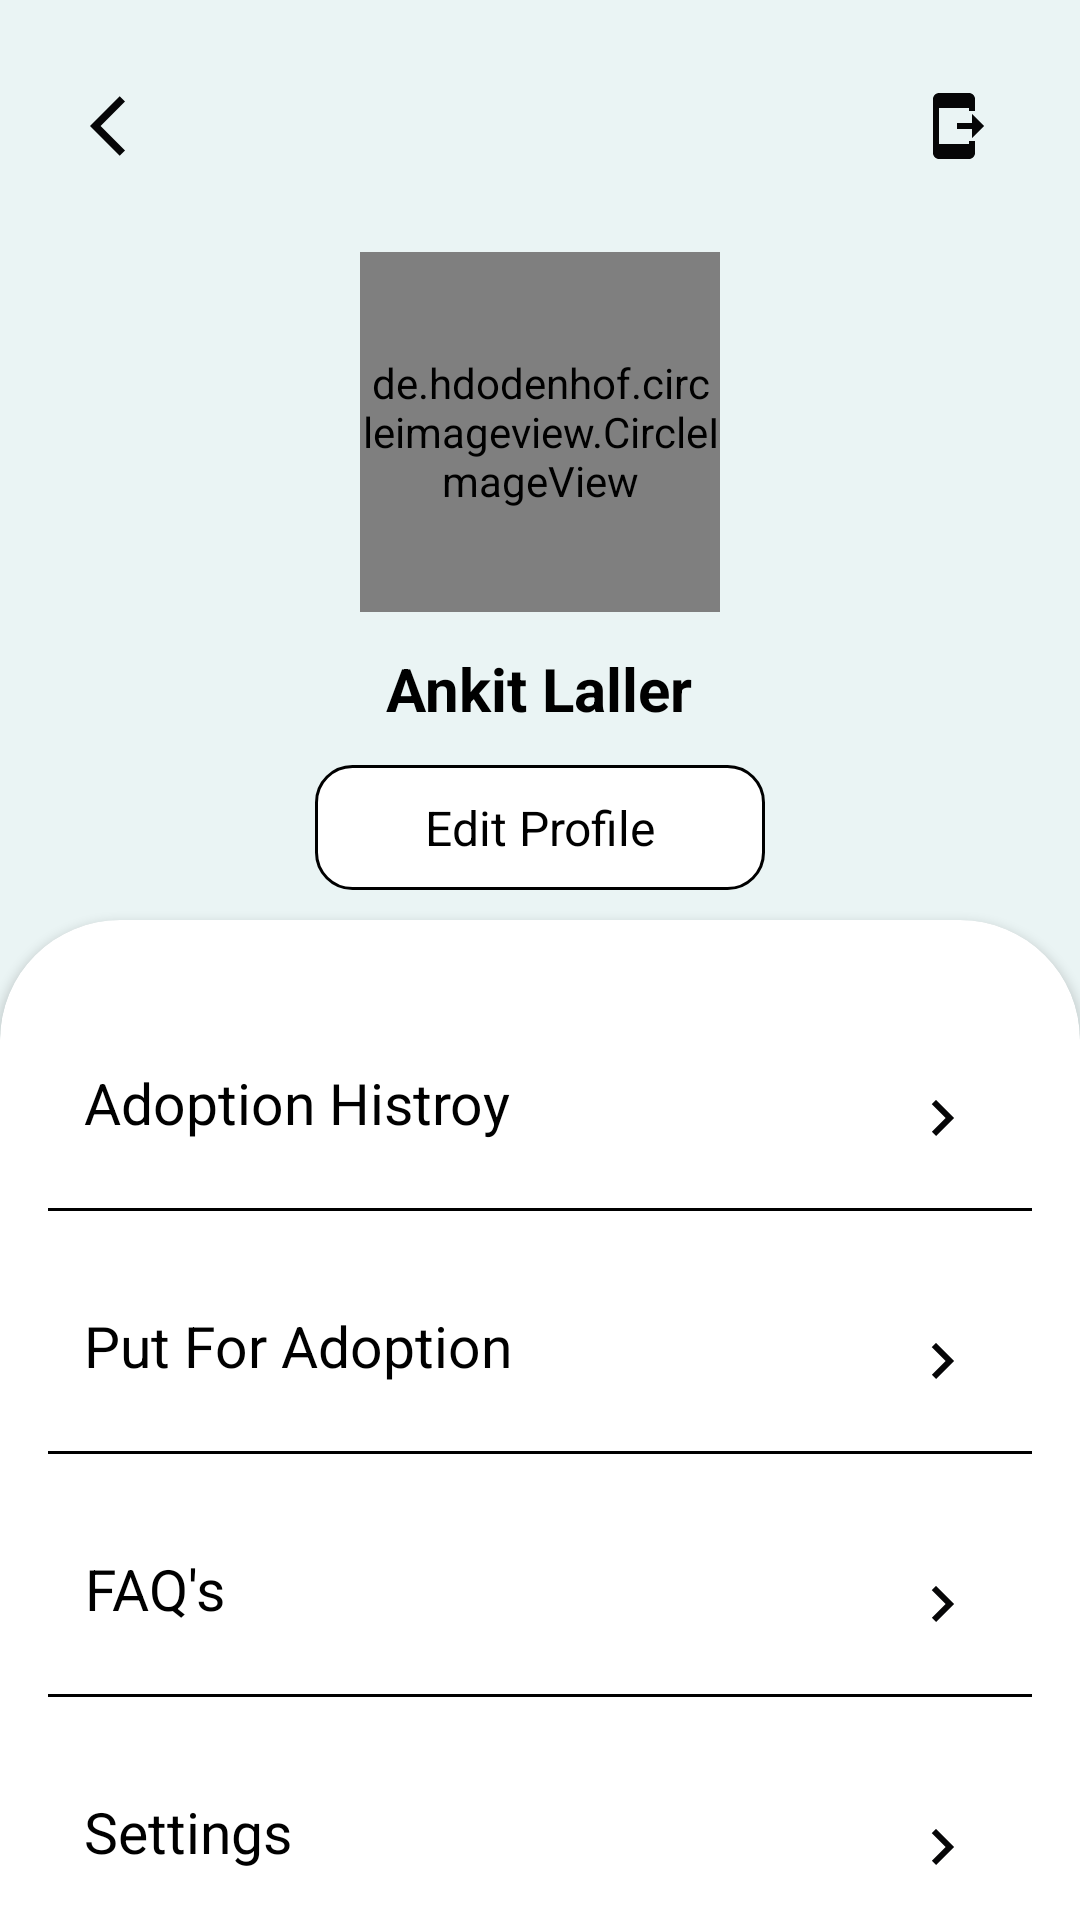

Named icons in this screenshot (1080 × 1920) and their bounding boxes, (x1, y1, x2, y2):
arrow back: (90, 96, 125, 156)
arrow right: (932, 1100, 954, 1136), (932, 1343, 954, 1379), (932, 1586, 954, 1622), (932, 1829, 954, 1865)
log out: (933, 93, 984, 159)
